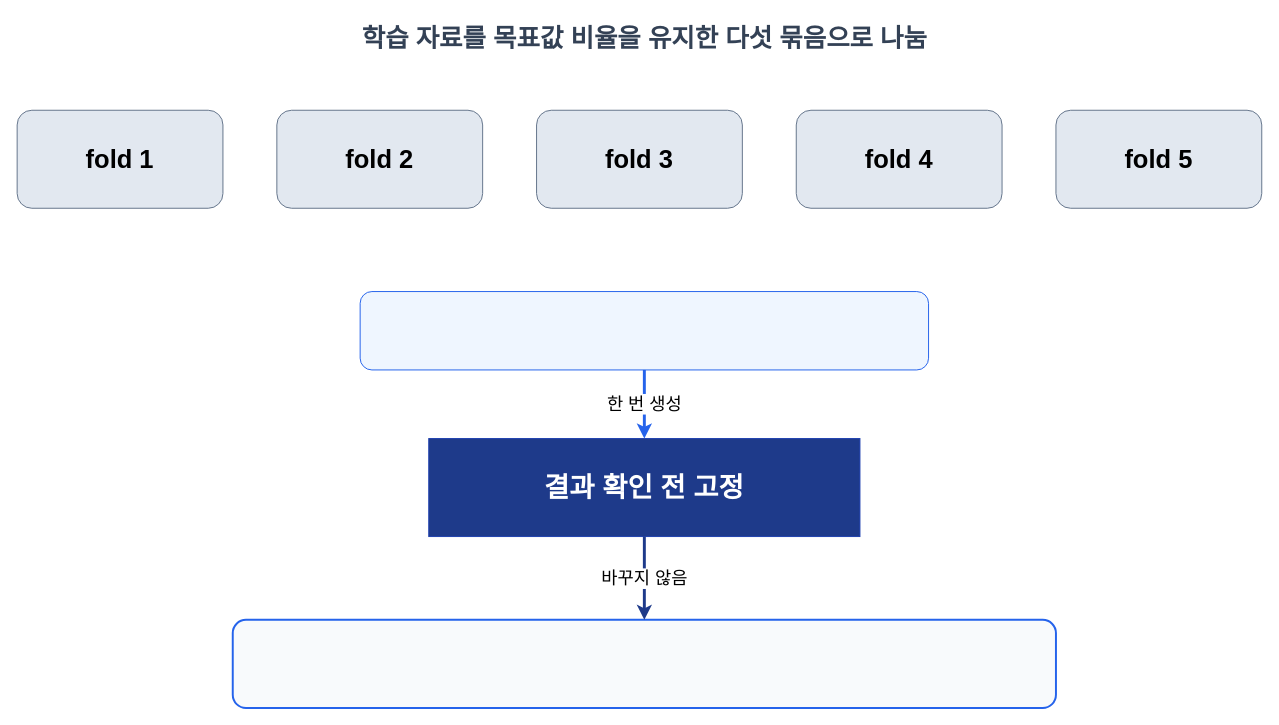
This 1279x725 diagram has some shape labels left out. Here are the shapes that lost their labels. From the top down, the centre of each, then its label:
At (x=644, y=330): "같은 분할 파일".
At (x=643, y=663): "이후 모든 실험 비교에 같은 다섯 fold 사용".
